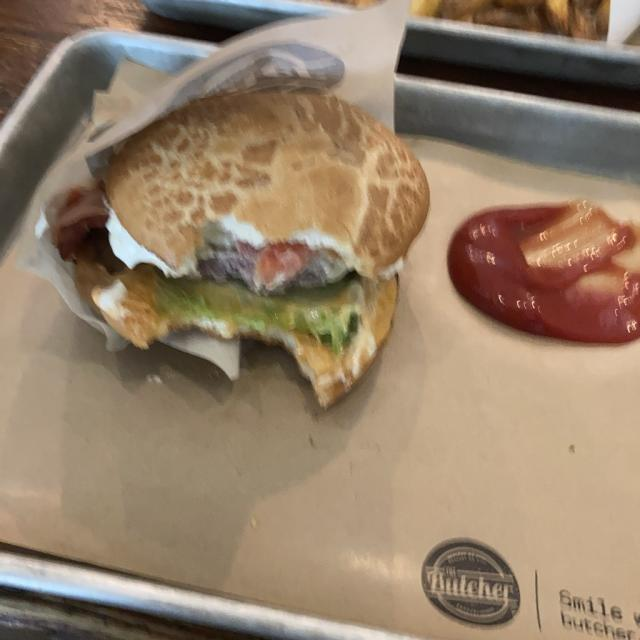hamburger: (59, 92, 421, 372)
ketchup: (455, 206, 634, 339)
